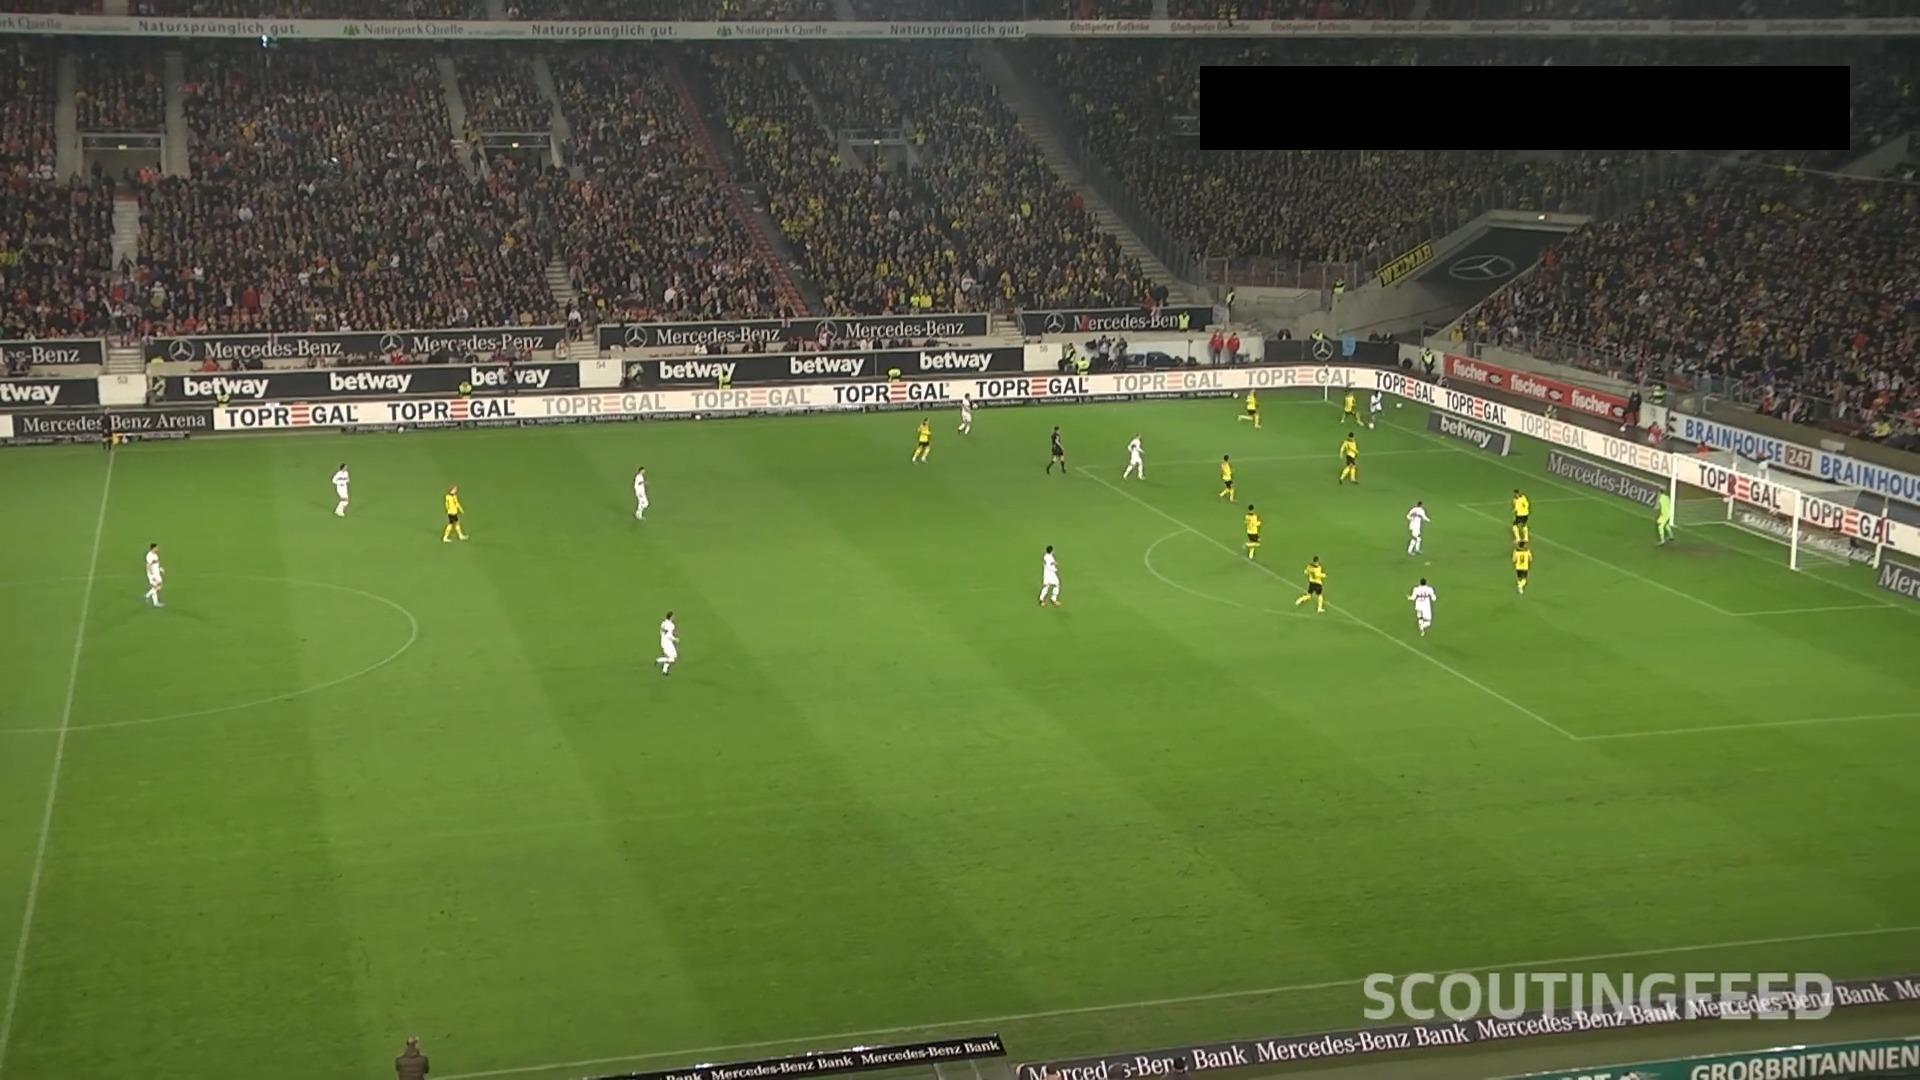ball: (1366, 421, 1375, 430)
